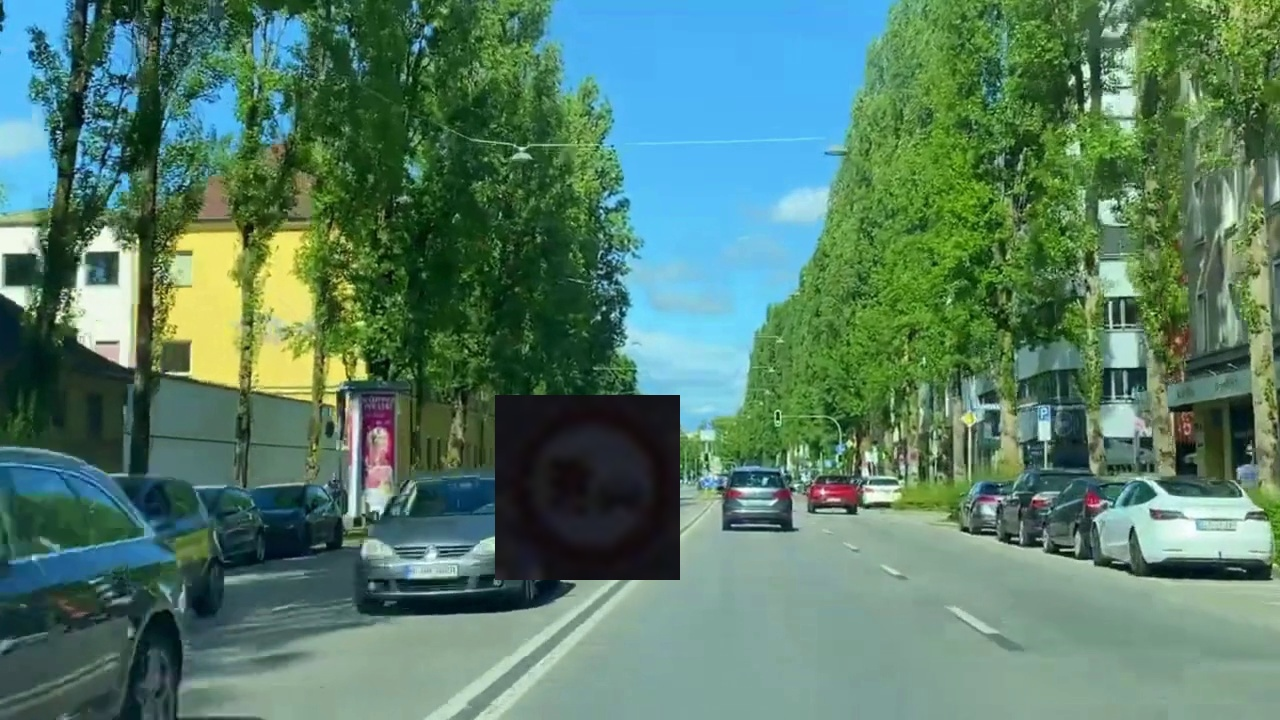No pass >3.5t: (495, 395, 680, 580)
